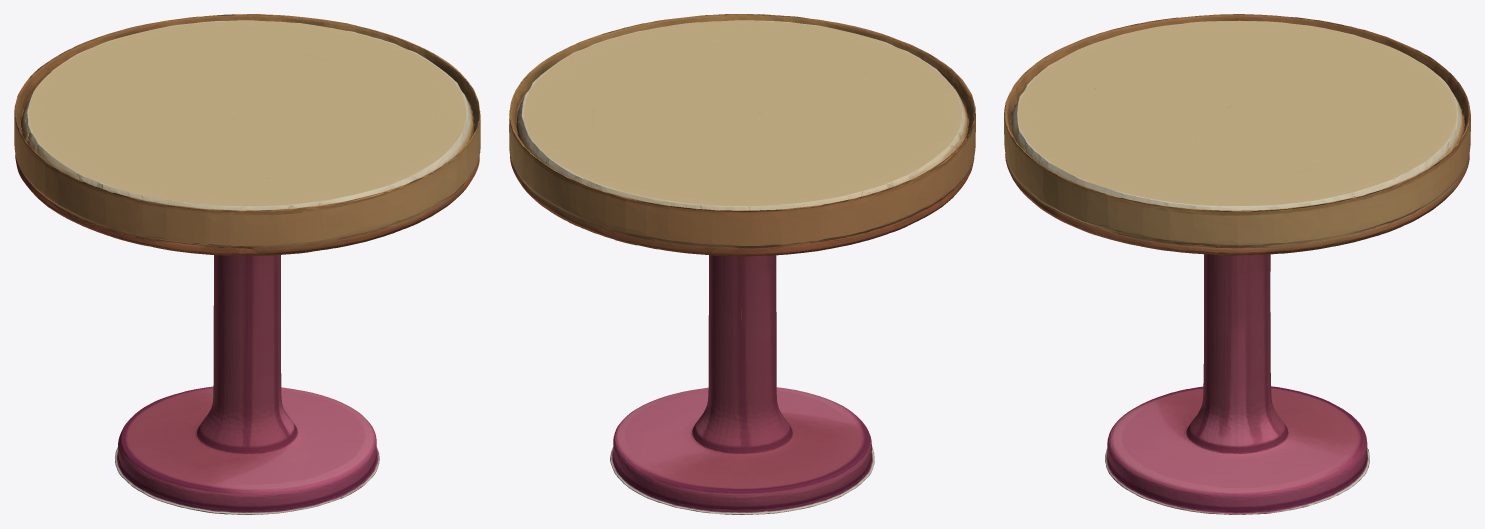
3 views of the same model, side by side, from view 1: azimuth 30°, elevation 25°; view 2: azimuth 150°, elevation 25°; view 3: azimuth 270°, elevation 25° (orthographic).
Parts seen in each view (by area): view 1: world; view 2: world; view 3: world.
Part boxes in pixels (x1,y1,x2,y2): world: (14,14,480,514); world: (509,14,975,514); world: (1004,14,1470,514).
Bounding box in the file's own units: 99.99 × 81.98 × 99.97.
1 material, 1 textured.
